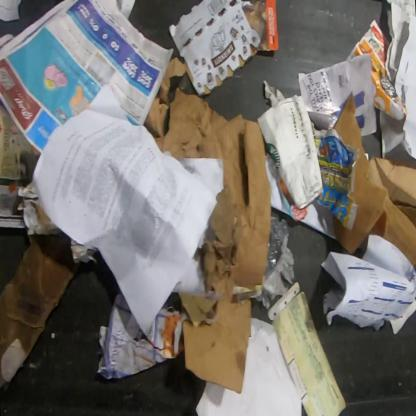cardboard: (154, 87, 272, 394), (332, 91, 415, 273), (0, 231, 79, 396), (169, 0, 279, 97), (256, 80, 324, 209), (144, 57, 186, 138)
soft_plastic: (265, 211, 289, 277)
